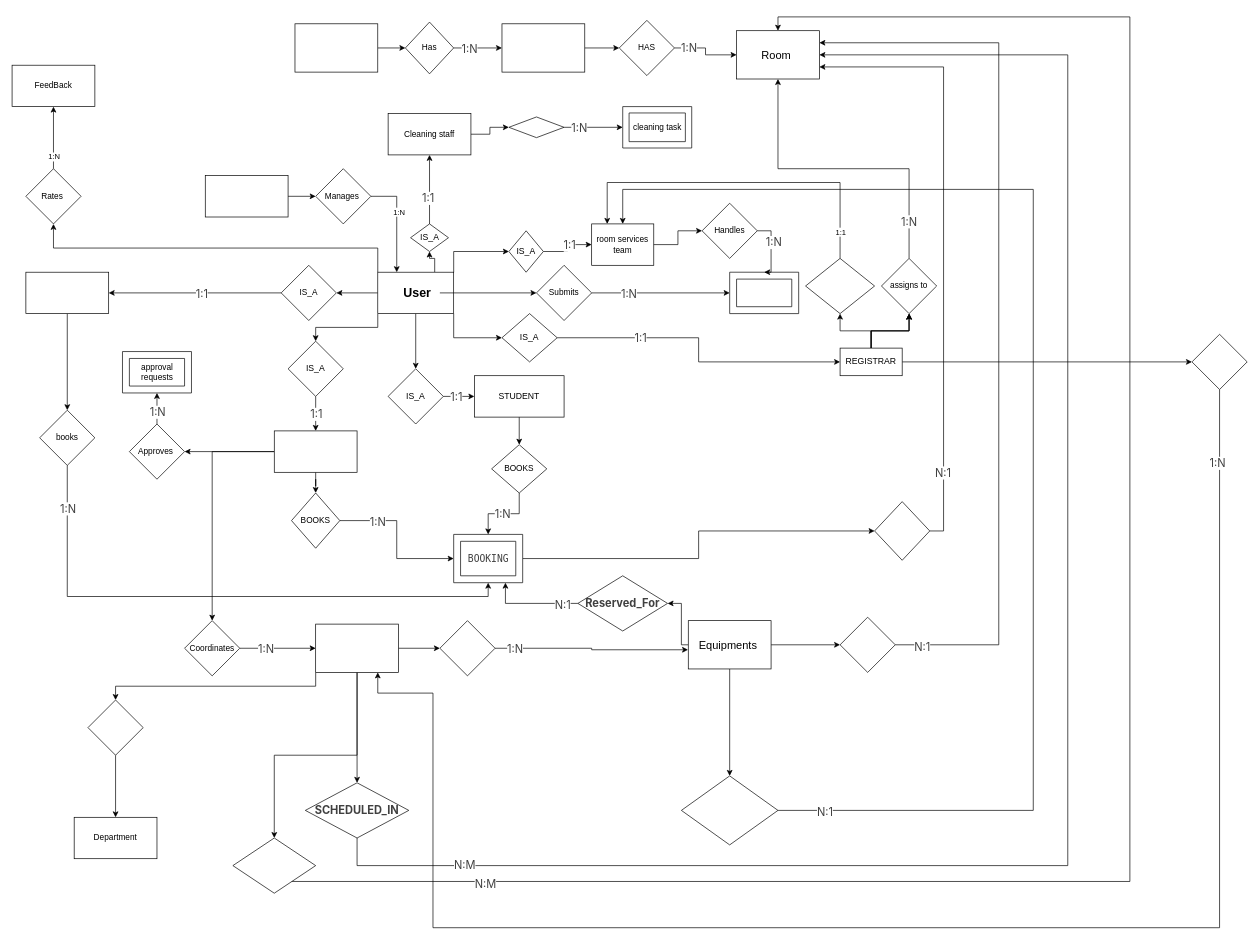
The diagram is 1259 pixels wide and 945 high, and some of its shapes have lost their labels. The centre of each missing label's shape, as x and y in pixels:
"ADMIN" belongs at point (246, 196).
"Assigned TO" belongs at point (867, 644).
"Belongs to" belongs at point (115, 727).
"Building" belongs at point (336, 47).
"Cleans" belongs at point (536, 127).
"course" belongs at point (356, 647).
"CREATES" belongs at point (1219, 362).
"EXAM_IN" belongs at point (274, 865).
"floor" belongs at point (543, 47).
"FORWARDS_TO" belongs at point (840, 286).
"Maintained_By" belongs at point (729, 810).
"OCCURS in" belongs at point (902, 530).
"PROFESSOR" belongs at point (315, 451).
"Report" belongs at point (764, 293).
"Requires" belongs at point (467, 648).
"TA" belongs at point (67, 293).
